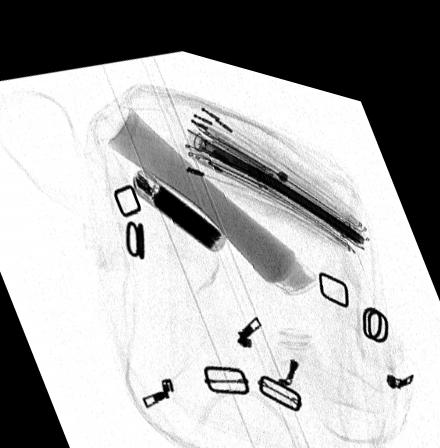Powerbank: (130, 161, 228, 241)
